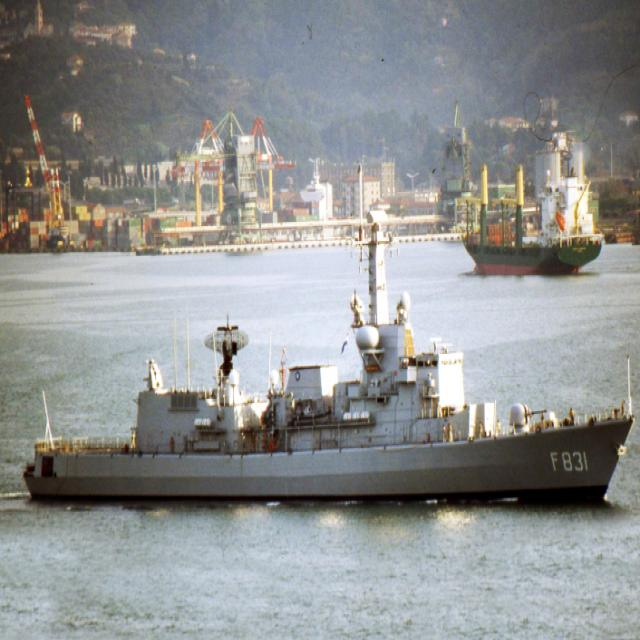Fragata: (19, 215, 640, 512)
